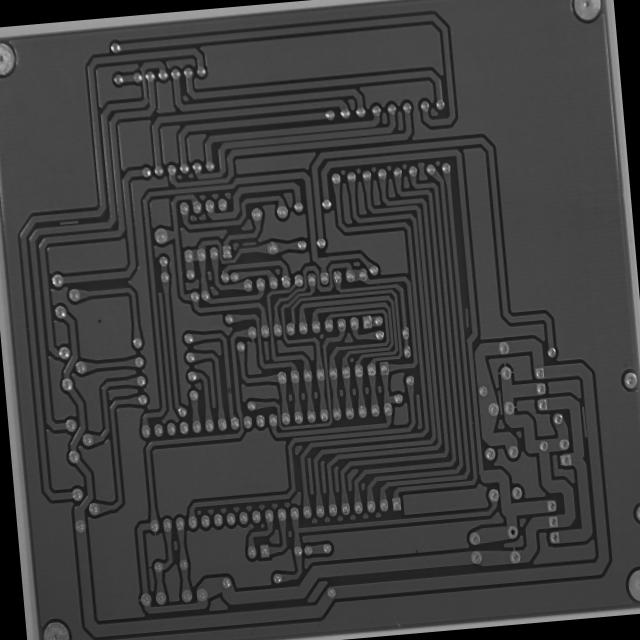spurious_copper: (491, 384, 509, 422), (579, 402, 590, 439), (56, 215, 80, 231), (460, 303, 470, 330), (240, 237, 260, 250)
